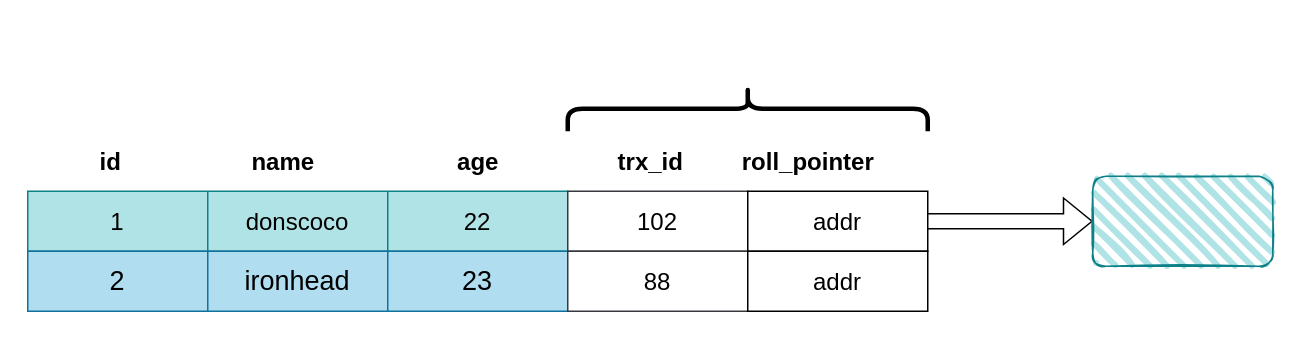
Image size: 1299x339. Some labels were removed from this diagram. Here are the shapes that lost their labels. From the top down, the centre of each, then its label:
At (x=747, y=108): "隐藏列".
At (x=1182, y=220): "undo log".
